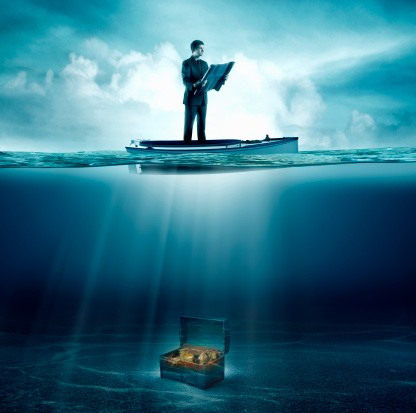em pe: (171, 39, 215, 148)
